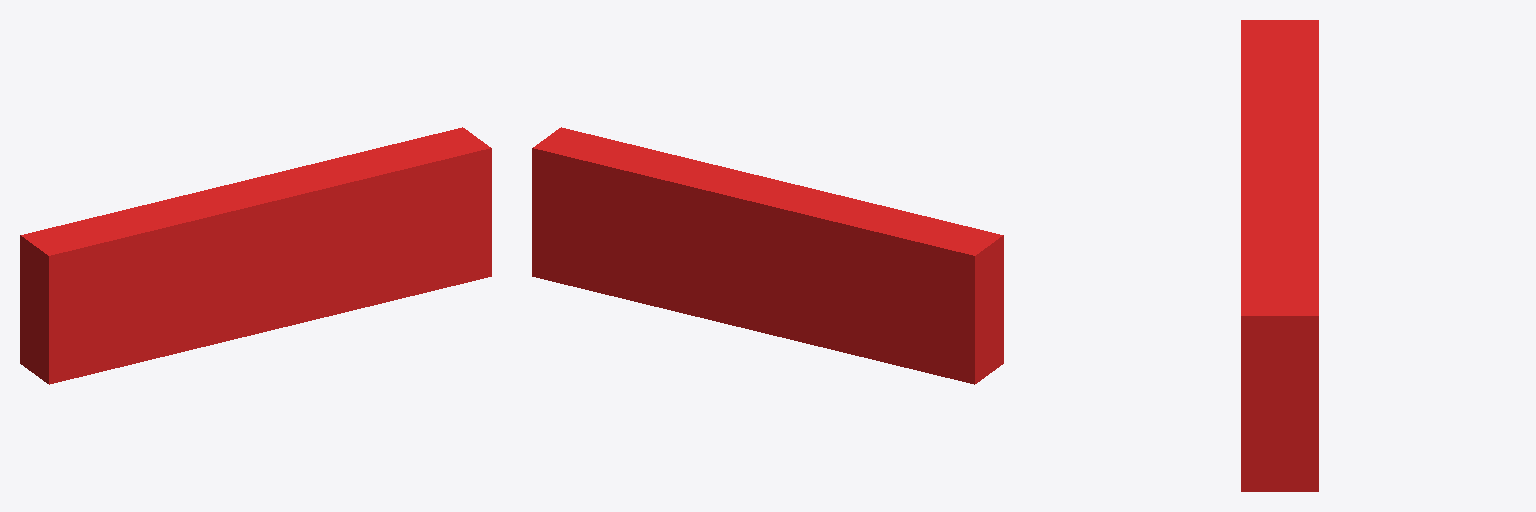
The robot description file, URDF, robot "wall maze 3":
<?xml version="1.0"?>
<robot name="wall maze 3">
    <!-- Colors -->
    <material name="red">
        <color rgba="0.941 0.204 0.204 1"/>
    </material>

    <!-- Wall -->
    <link name="base_link">
        <visual>
            <geometry>
                <box size="9 1 2.5" />
                <origin rpy="0 0 0" xyz="0 0 0"/>
            </geometry>
            <material name="red"/>
        </visual>

        <collision>
             <geometry>
                <box size="9 1 2.5" />
                <origin rpy="0 0 0" xyz="0 0 0"/>
            </geometry>
        </collision>
        <inertial>
            <mass value="0"/>
            <inertia ixx="0" ixy="0" ixz="0" iyy="0" iyz="0" izz="0"/>
        </inertial>
    </link>
</robot>

--- What the picture shows (computed from the rendered views, not written in the file) ---
3 views of the same robot in one strip: view 1: azimuth 30°, elevation 25°; view 2: azimuth 150°, elevation 25°; view 3: azimuth 270°, elevation 25° (orthographic).
Robot: wall maze 3 — 1 links, 0 joints (none); root link base_link; default pose: every joint at zero.
Links seen in each view (by area): view 1: base_link; view 2: base_link; view 3: base_link.
Link boxes in pixels (box(x1,y1,x2,y2)): base_link: box(20, 127, 491, 384); base_link: box(532, 127, 1003, 384); base_link: box(1241, 20, 1318, 491).
Bounding box of the posed robot: 9 × 1 × 2.5 m (x, y, z).
Geometry: primitives only (box / cylinder / sphere), no mesh files.